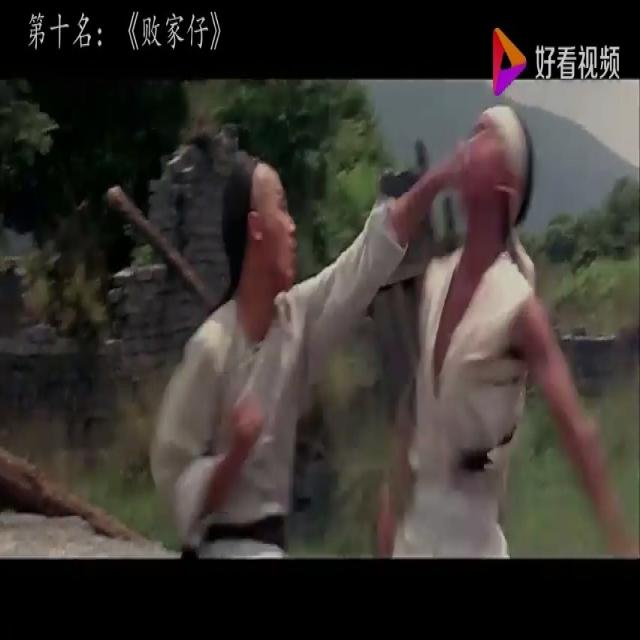fight: (126, 78, 627, 570)
